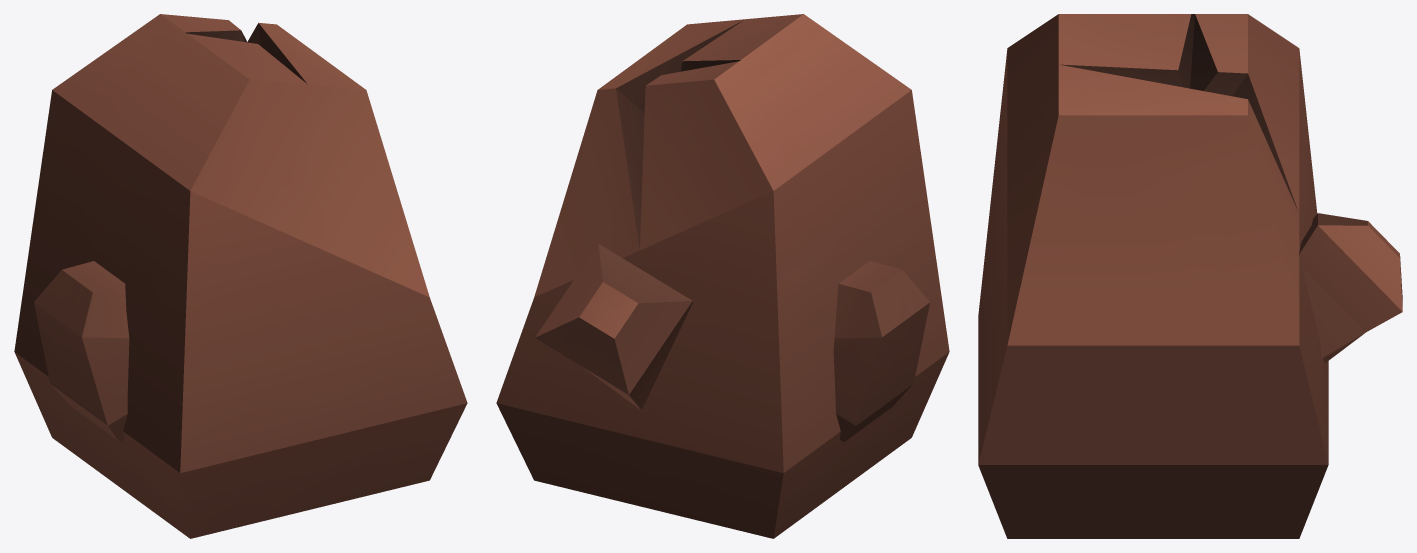
File: rockLarge.fbx
The picture shows the model from 3 angles, left to right: view 1: azimuth 30°, elevation 25°; view 2: azimuth 150°, elevation 25°; view 3: azimuth 270°, elevation 25°; orthographic projection. The views are drawn at different scales.
Parts seen in each view (by area): view 1: polySurface1; view 2: polySurface1; view 3: polySurface1.
Boxes of the visible parts, x1=… form: polySurface1: x1=14, y1=14, x2=467, y2=538; polySurface1: x1=496, y1=14, x2=949, y2=538; polySurface1: x1=978, y1=14, x2=1402, y2=538.
Size of the model in its own units: 1.36 by 1.68 by 1.45.
